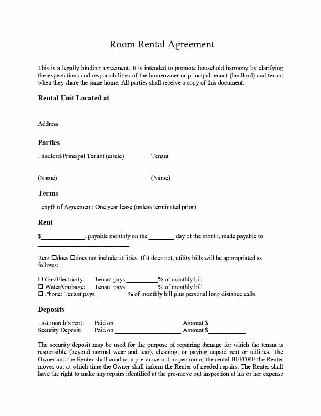checkbox: (37, 276, 44, 282), (37, 283, 44, 289), (38, 291, 44, 297)
textline: (34, 105, 242, 123), (38, 161, 136, 176), (150, 163, 254, 177), (116, 312, 181, 327), (37, 240, 131, 248), (37, 228, 87, 241), (112, 326, 182, 335), (125, 271, 159, 284), (209, 317, 246, 328), (125, 283, 161, 291), (94, 290, 128, 298), (207, 329, 249, 335), (147, 231, 173, 240)
